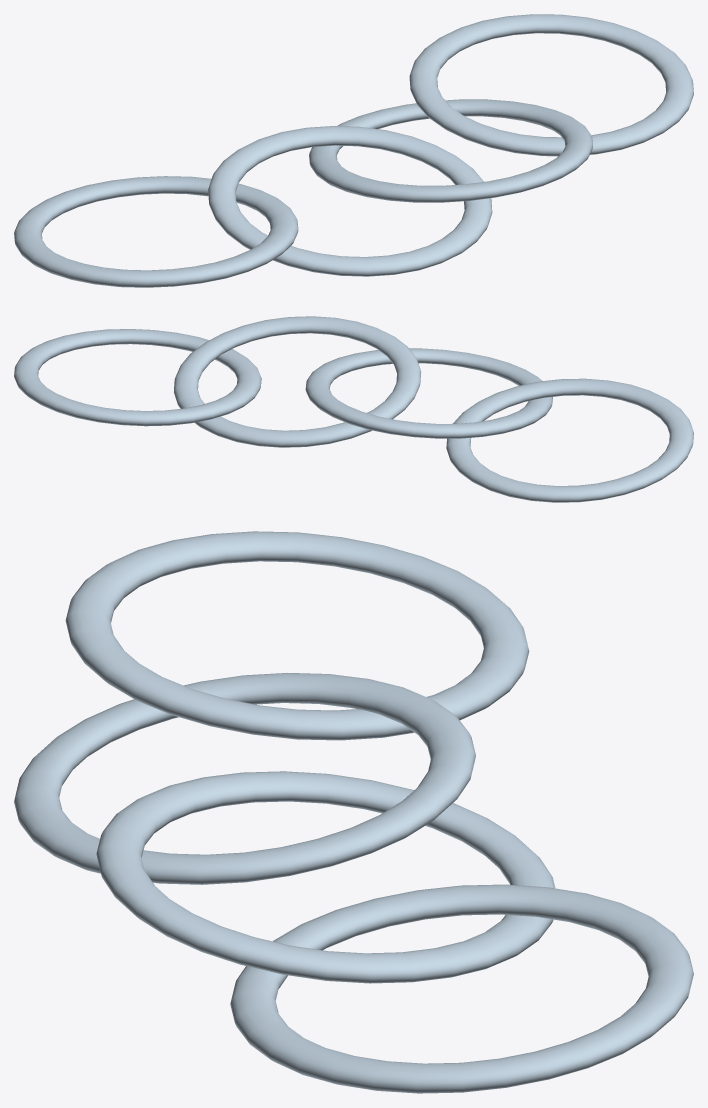
Rendered from magician_rings.glb.
3 renders of one model, top to bottom at view 1: azimuth 30°, elevation 25°; view 2: azimuth 150°, elevation 25°; view 3: azimuth 270°, elevation 25°, orthographic. The views are drawn at different scales.
Visible parts, largest first — view 1: ring_1, ring_3, ring_0, ring_2; view 2: ring_0, ring_2, ring_3, ring_1; view 3: ring_3, ring_0, ring_2, ring_1.
Boxes of the visible parts, box(x1,y1,x2,y2) form: ring_1: box(208, 126, 492, 276); ring_3: box(409, 14, 693, 156); ring_0: box(14, 176, 298, 287); ring_2: box(309, 99, 592, 202); ring_0: box(446, 378, 693, 502); ring_2: box(174, 316, 421, 447); ring_3: box(14, 329, 261, 426); ring_1: box(305, 348, 552, 438); ring_3: box(230, 884, 693, 1093); ring_0: box(65, 531, 529, 740); ring_2: box(96, 771, 555, 983); ring_1: box(14, 673, 475, 884).
Size of the model in its own units: 0.9159 by 0.051 by 0.4778.
1 material, 1 textured.
